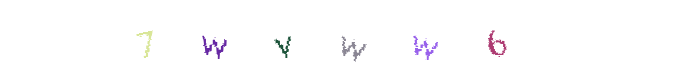6: (332, 0, 412, 80)
7: (244, 0, 324, 80)
V: (300, 0, 380, 80)
W: (256, 0, 336, 80), (312, 0, 392, 80), (319, 0, 399, 80)
